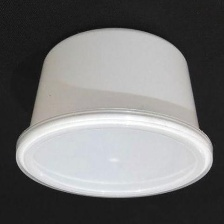plastic_box: (9, 19, 218, 207)
